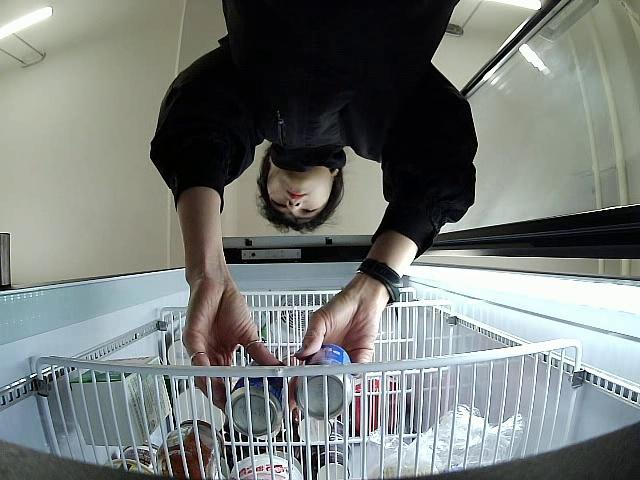00_hand: (181, 275, 284, 412), (291, 286, 379, 377)
15_letsbe: (226, 359, 286, 439), (296, 341, 355, 418)
